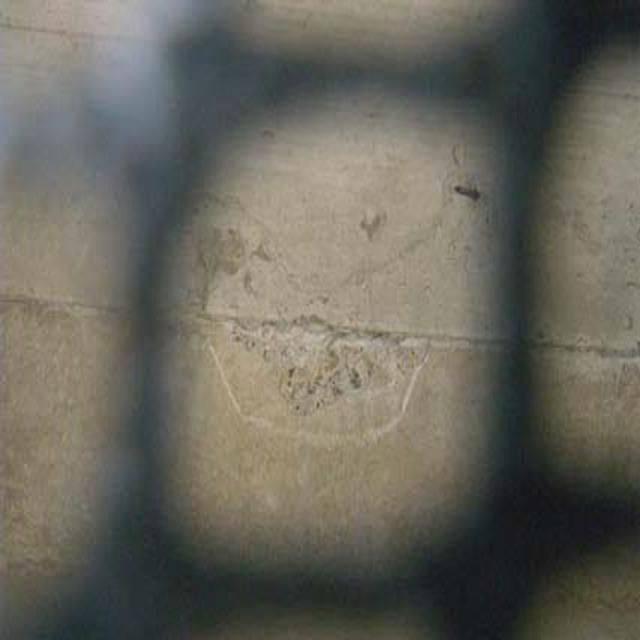spalling: (218, 301, 412, 426)
